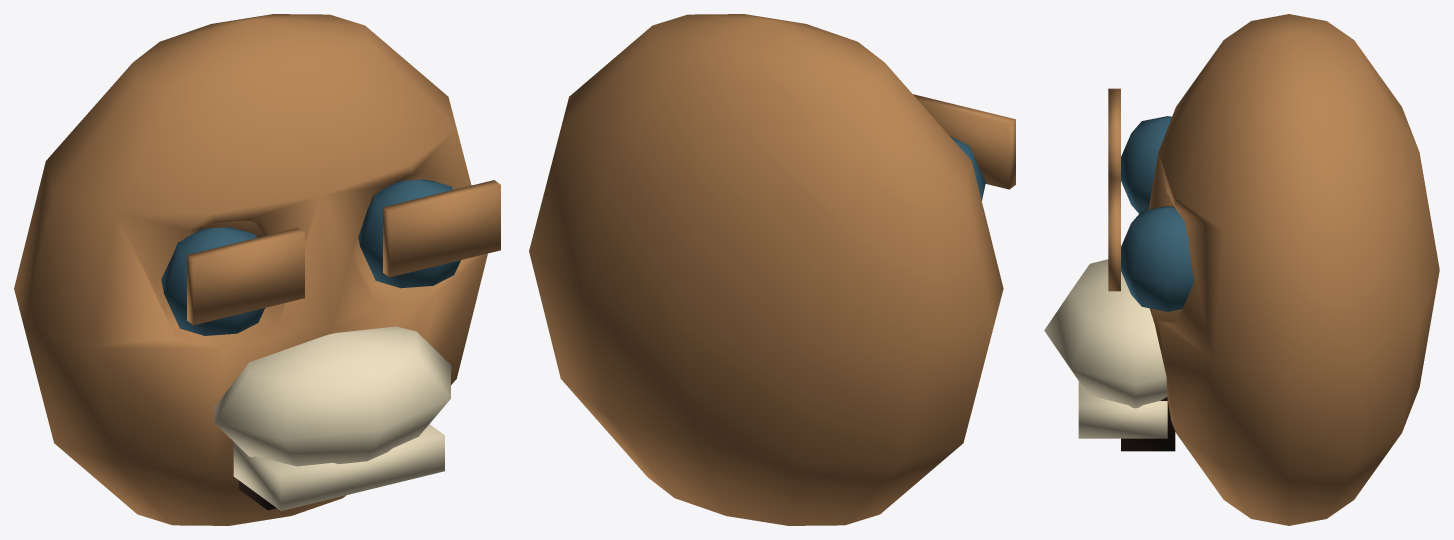
Rendered from blink-half.glb.
The picture shows the model from 3 angles, left to right: view 1: azimuth 30°, elevation 25°; view 2: azimuth 150°, elevation 25°; view 3: azimuth 270°, elevation 25°; orthographic projection. The views are drawn at different scales.
Parts seen in each view (by area): view 1: sample_head, sample_upper_muzzle, sample_lid_L, sample_lid_R, sample_lower_jaw, sample_eye_L, sample_eye_R; view 2: sample_head, sample_lid_L; view 3: sample_head, sample_upper_muzzle, sample_eye_R, sample_lower_jaw, sample_eye_L, sample_lid_R, sample_lid_L, sample_mouth_cavity.
Boxes of the visible parts, x1,y1,x2,y2 form: sample_head: (14, 14, 487, 525); sample_upper_muzzle: (214, 326, 451, 466); sample_lid_L: (187, 228, 304, 325); sample_lid_R: (383, 180, 500, 277); sample_lower_jaw: (233, 424, 444, 510); sample_eye_L: (161, 227, 264, 335); sample_eye_R: (358, 179, 460, 288); sample_head: (529, 14, 1003, 525); sample_lid_L: (913, 94, 1015, 189); sample_head: (1148, 14, 1439, 525); sample_upper_muzzle: (1044, 259, 1166, 408); sample_eye_R: (1121, 206, 1194, 311); sample_lower_jaw: (1078, 381, 1167, 438); sample_eye_L: (1121, 116, 1171, 213); sample_lid_R: (1108, 178, 1120, 291); sample_lid_L: (1108, 88, 1120, 178); sample_mouth_cavity: (1121, 397, 1175, 451).
Size of the model in its own units: 2 by 2.1 by 1.6.
